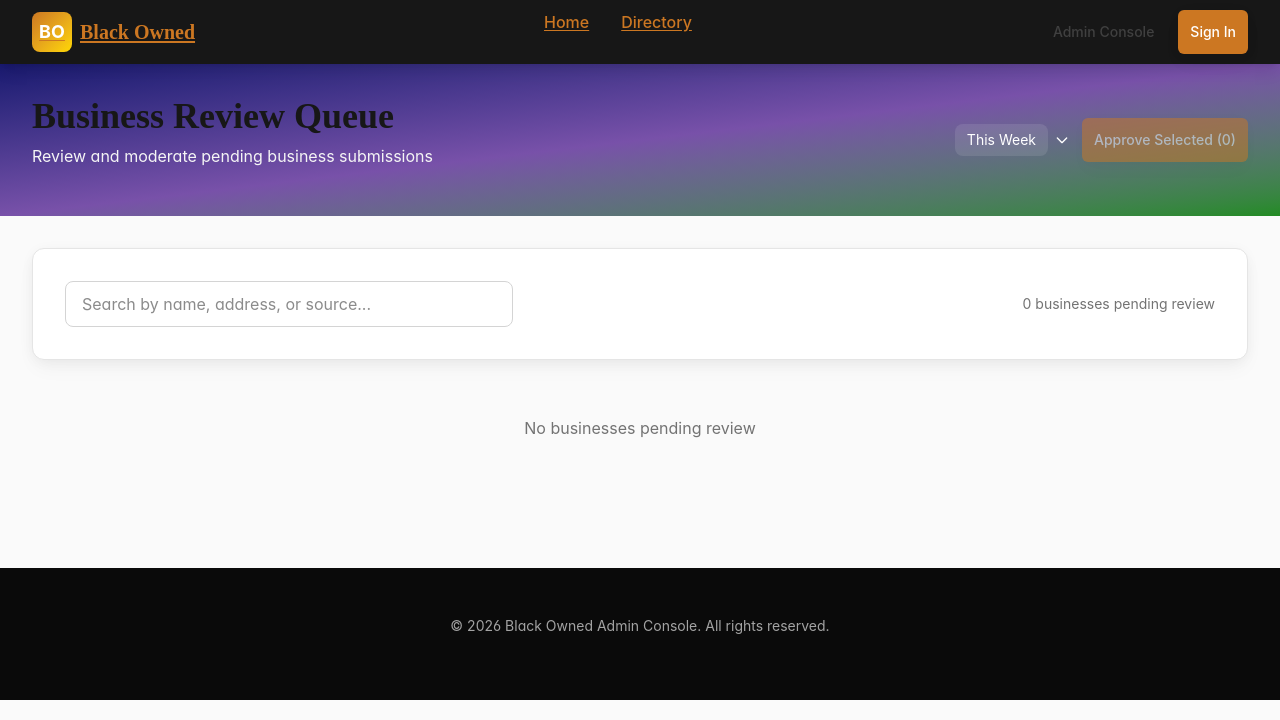
Test case: BusinessReviewPage › shows empty state when no businesses match search
Type "nonexistentbusiness12345" into the field with placeholder "Search by name, address, or source..." at x=289, y=304, box [65, 281, 513, 327]
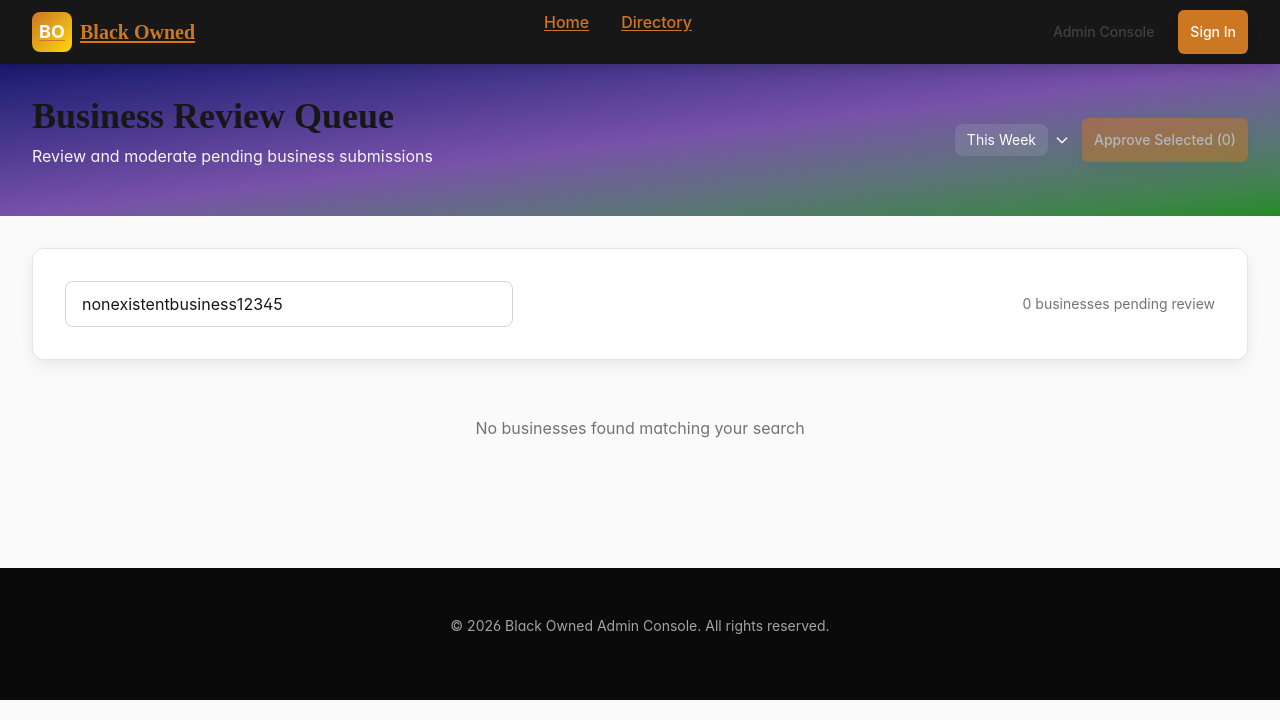
Now the text "No businesses found matching your search" is shown, box [475, 418, 805, 438]
